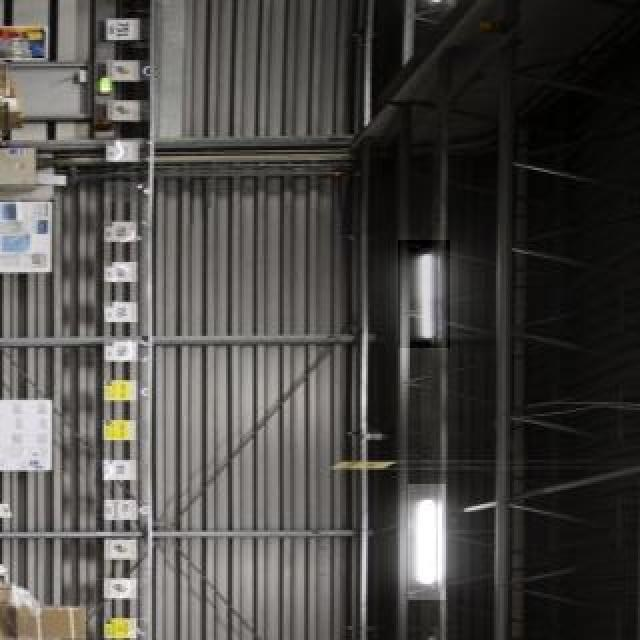fluorescent tube: (408, 474, 448, 602), (412, 235, 452, 358)
